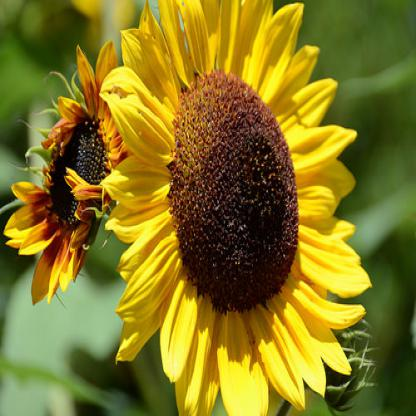SUN FLOWER: (13, 8, 377, 402)
